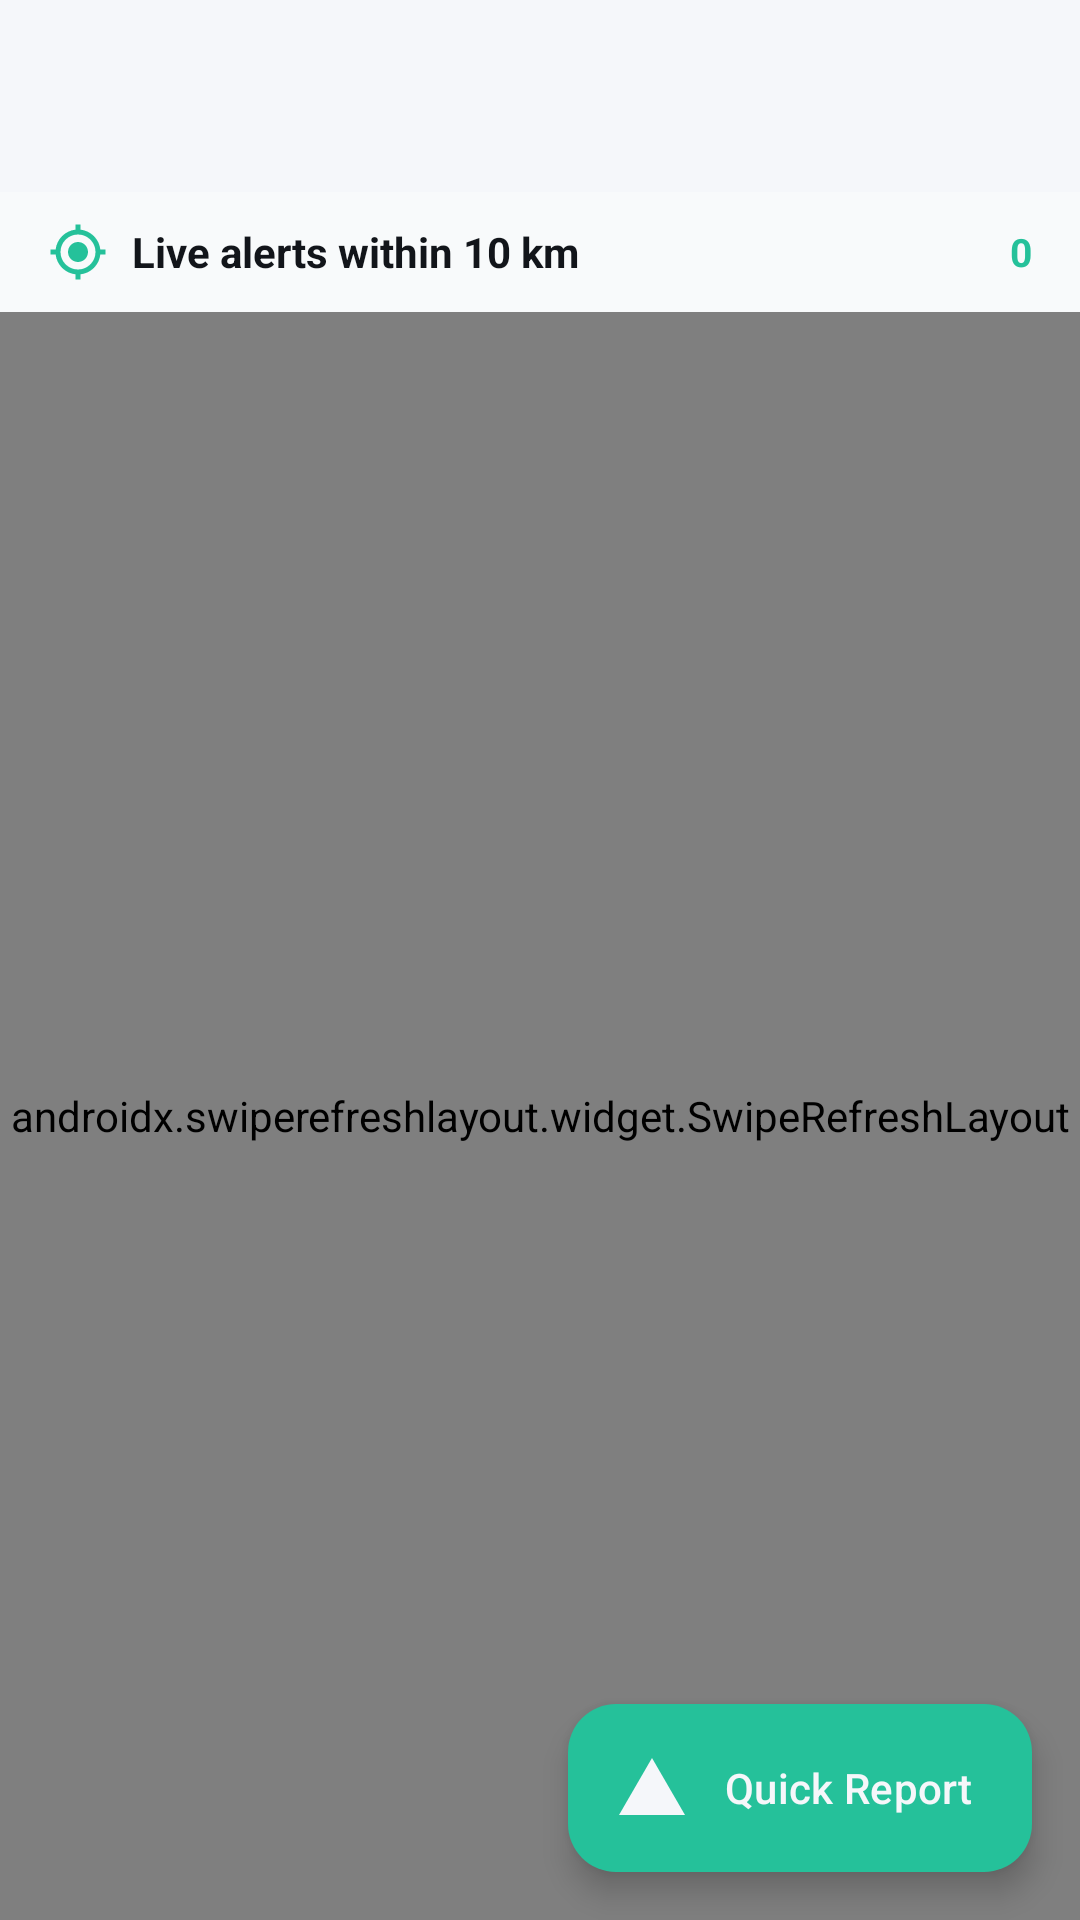

Named icons in this screenshot (1080*1920) and their bounding boxes, box=[x1, y1, x2, y2]:
Within radius: box=[50, 224, 106, 280]
